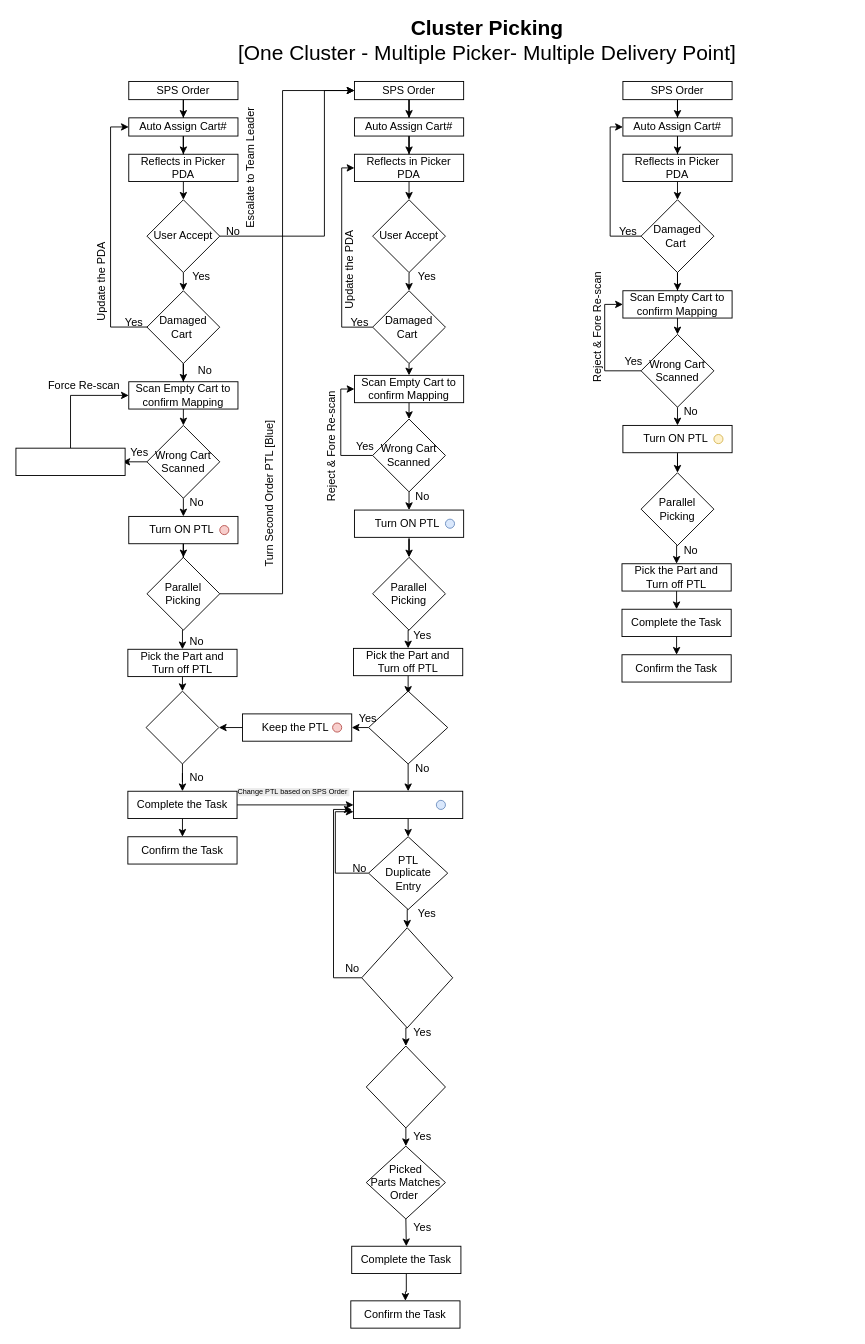
Some shapes in this 865 by 1344 pixel diagram are drawn without their labels. Here are the shapes that lost their labels. From the top down, the centre of each, then its label:
At [70,461]: "Rejects Cart#".
At [182,727]: "Common Parts".
At [408,727]: "Common Parts between Orders".
At [408,804]: "Follow PTL".
At [407,977]: "Duration between two Picks <2 Sec".
At [405,1086]: "Motion Sensor Detection".
